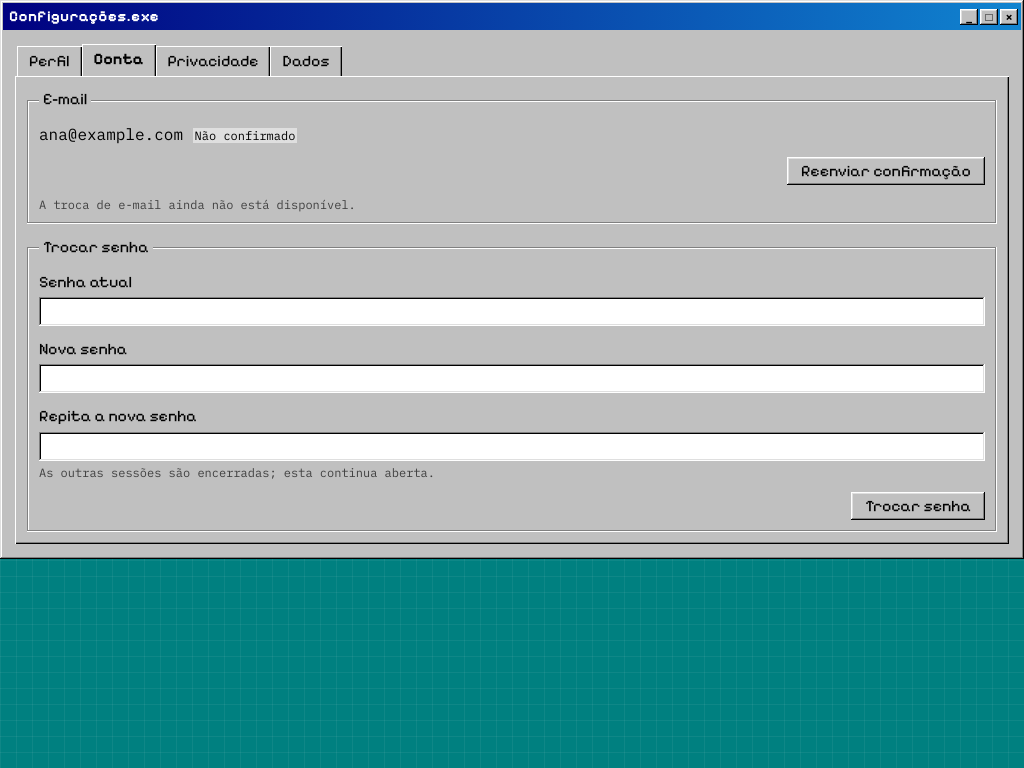
Test: SettingsView › Conta troca a senha e entra de novo com a nova
Step 1. Type "senha-antiga" into the password field labelled "Senha atual" → (512, 312), box [39,297,985,326]
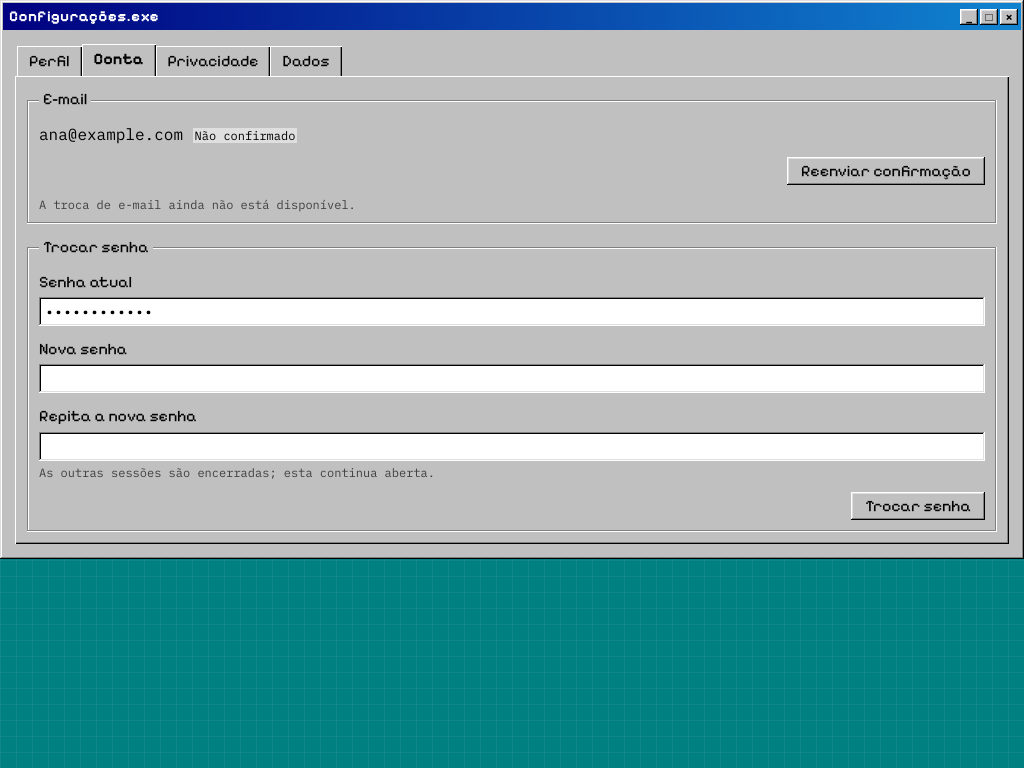
Step 2. Type "senha-nova-1" into the password field labelled "Nova senha" → (512, 379), box [39,364,985,393]
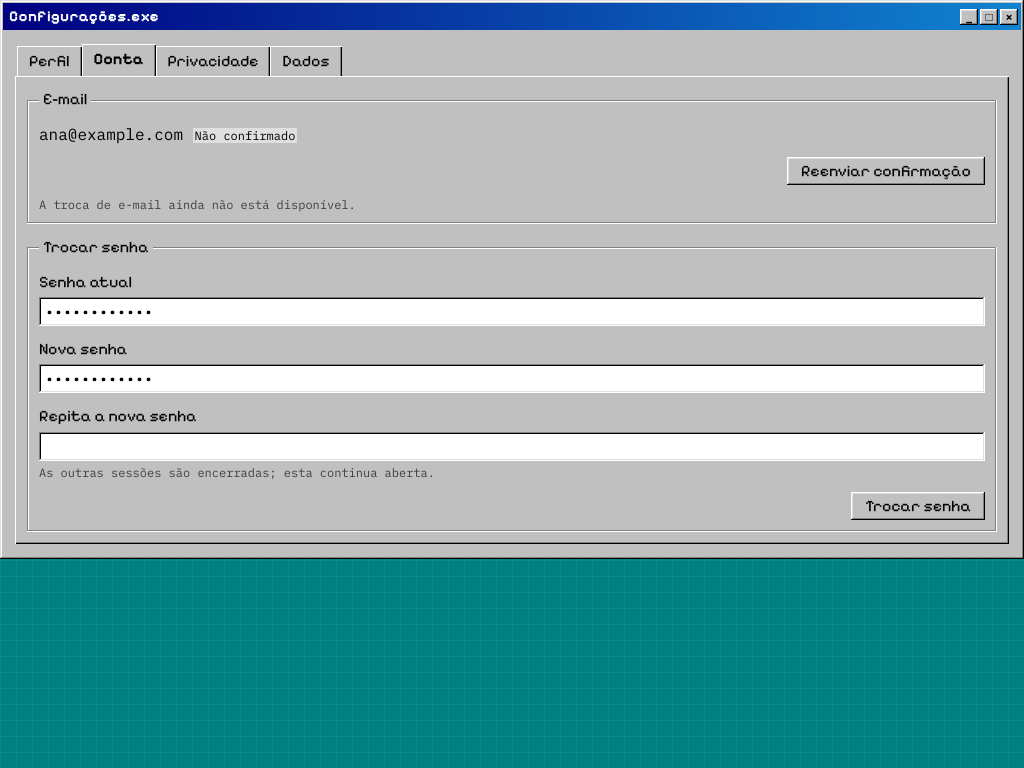
Step 3. Type "senha-nova-1" into the 3rd password field → (512, 446), box [39,432,985,461]
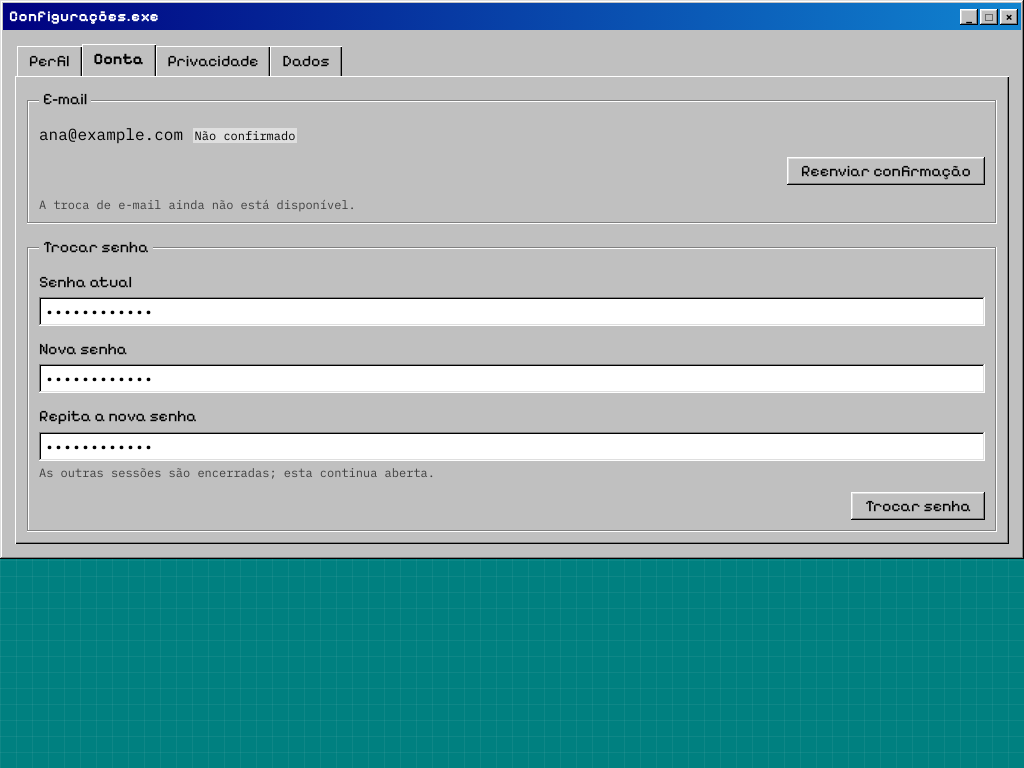
Step 4. Submit the form, box [39,271,985,520]
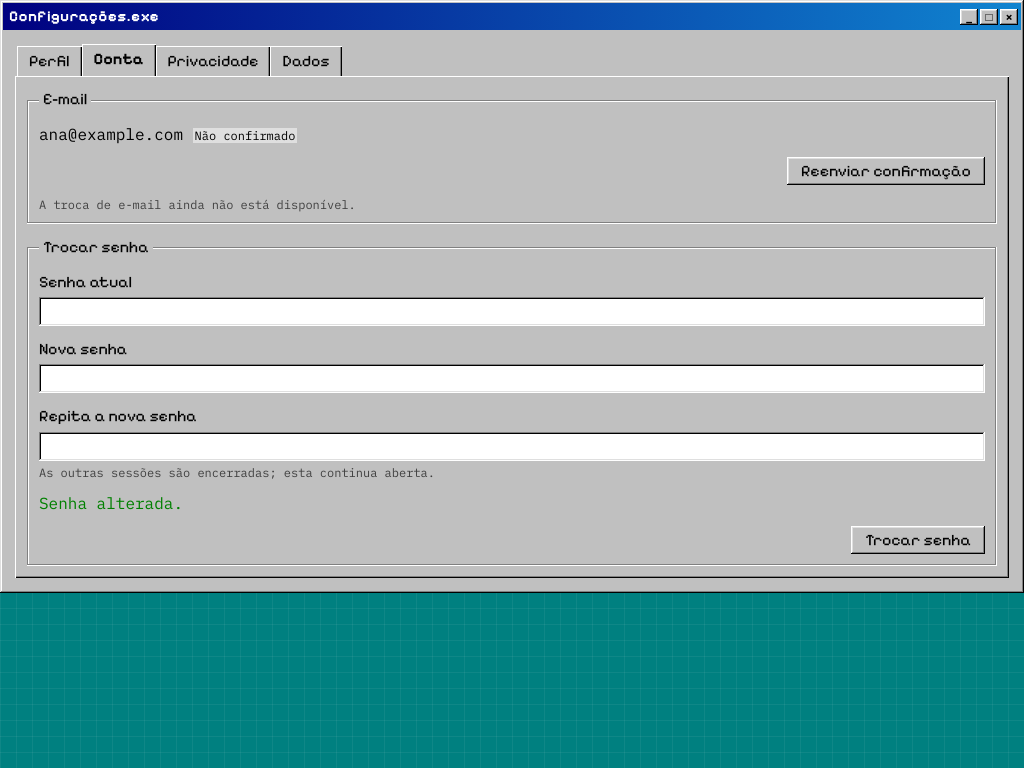
Expected: the text "Senha alterada." is shown, [39,493,183,513]
